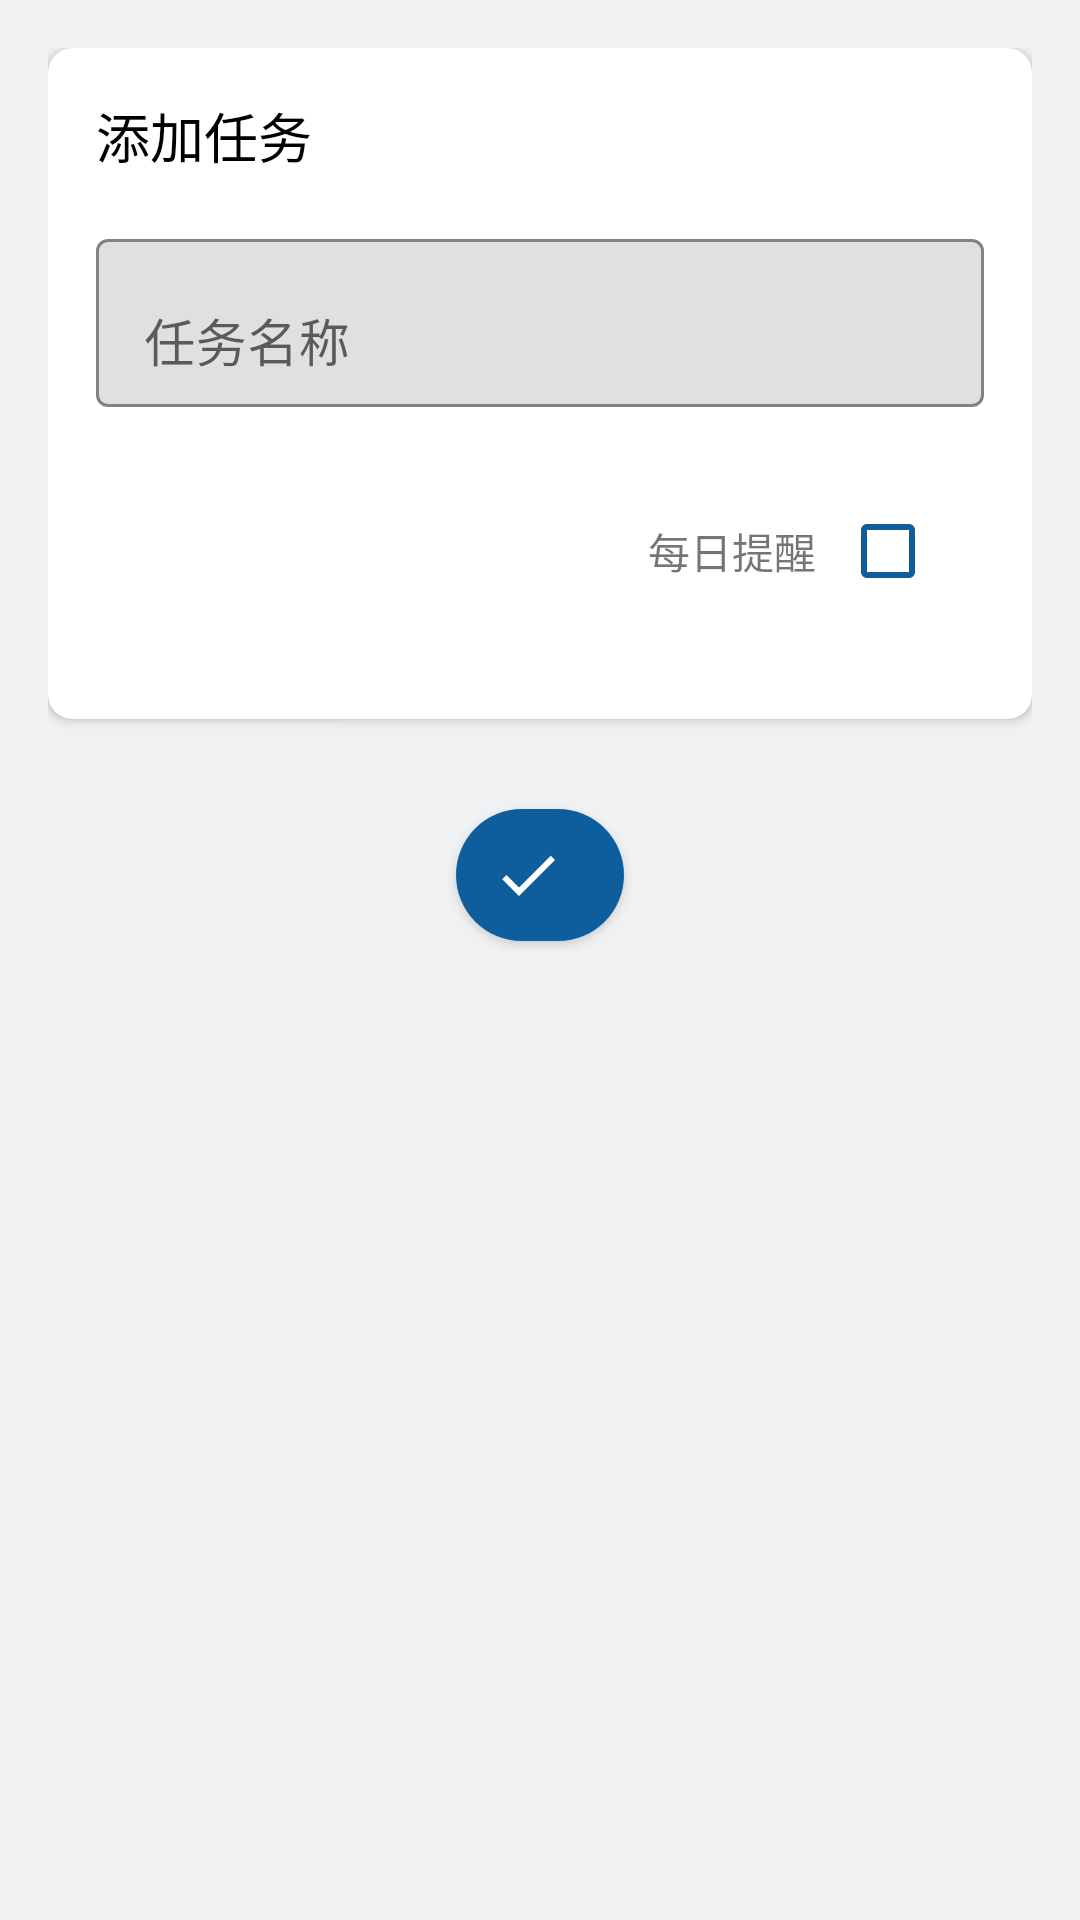

Icon bounding boxes for this 1080 x 1920 phone screenshot, format (x1, y1, x2, y2):
check: (456, 809, 624, 943)
